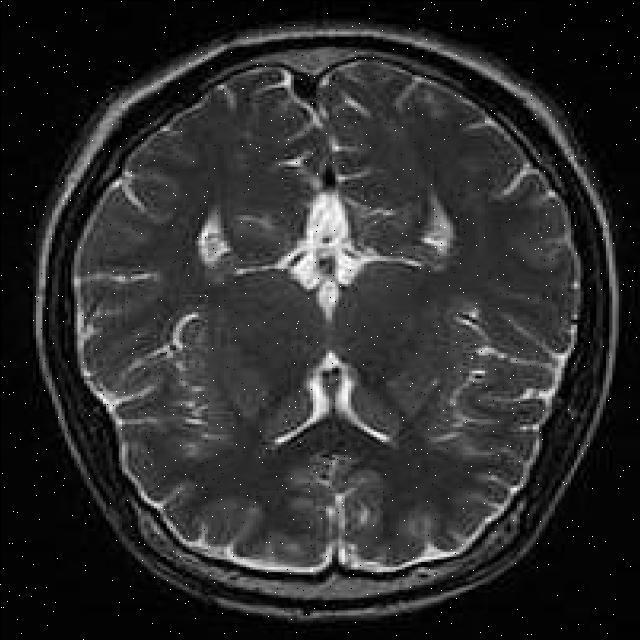No_Tumor: (35, 21, 618, 620)
